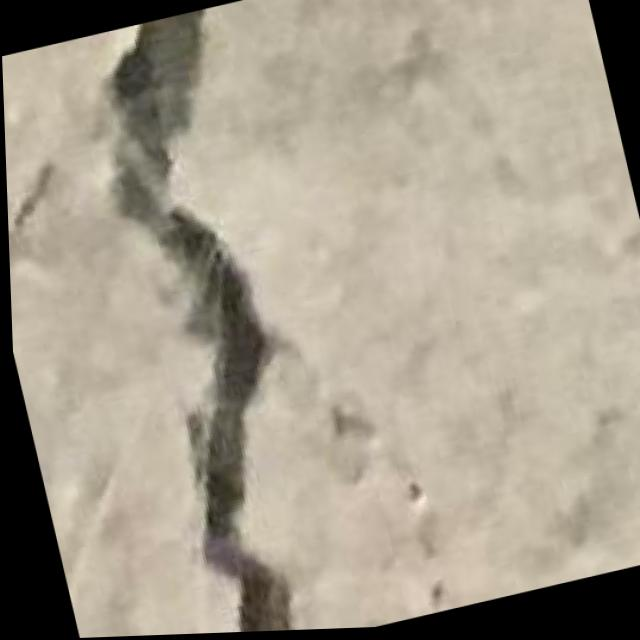Crack: (53, 7, 365, 638)
